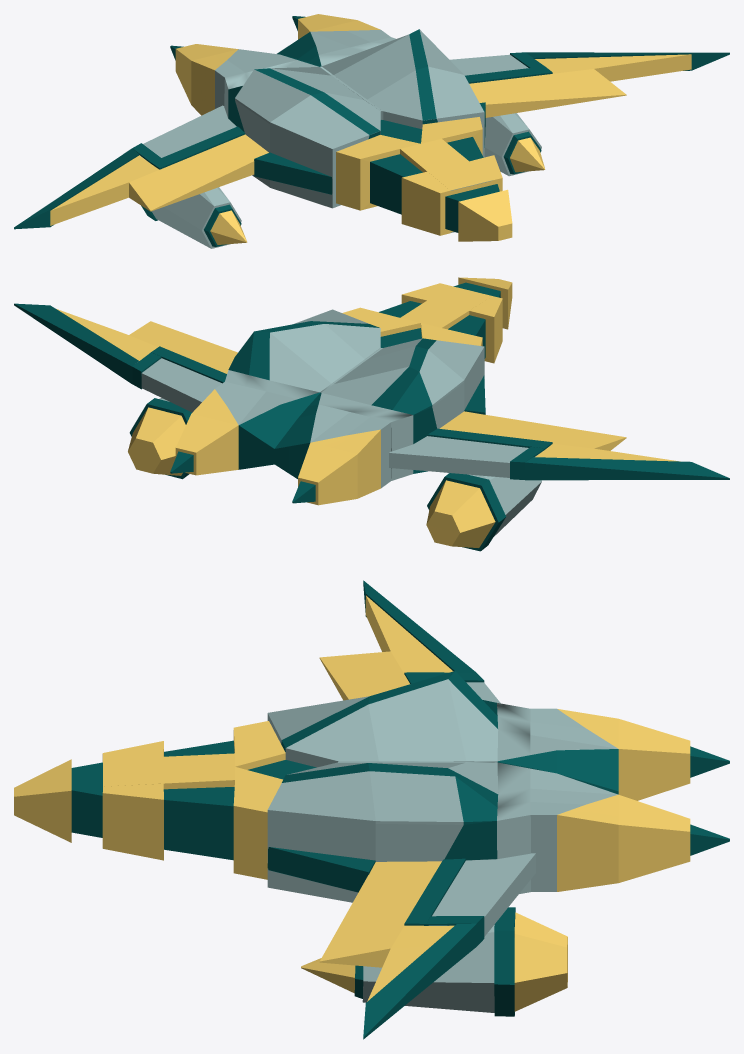
3 views of the same model, one above another, from view 1: azimuth 30°, elevation 25°; view 2: azimuth 150°, elevation 25°; view 3: azimuth 270°, elevation 25° (orthographic). The views are drawn at different scales.
Visible parts, largest first — view 1: JupiterAmarillo; view 2: JupiterAmarillo; view 3: JupiterAmarillo.
Part boxes in pixels (box(x1,y1,x2,y2)): JupiterAmarillo: box(14, 14, 729, 248); JupiterAmarillo: box(14, 277, 729, 551); JupiterAmarillo: box(14, 580, 729, 1039).
Size of the model in its own units: 709 by 135 by 469.
